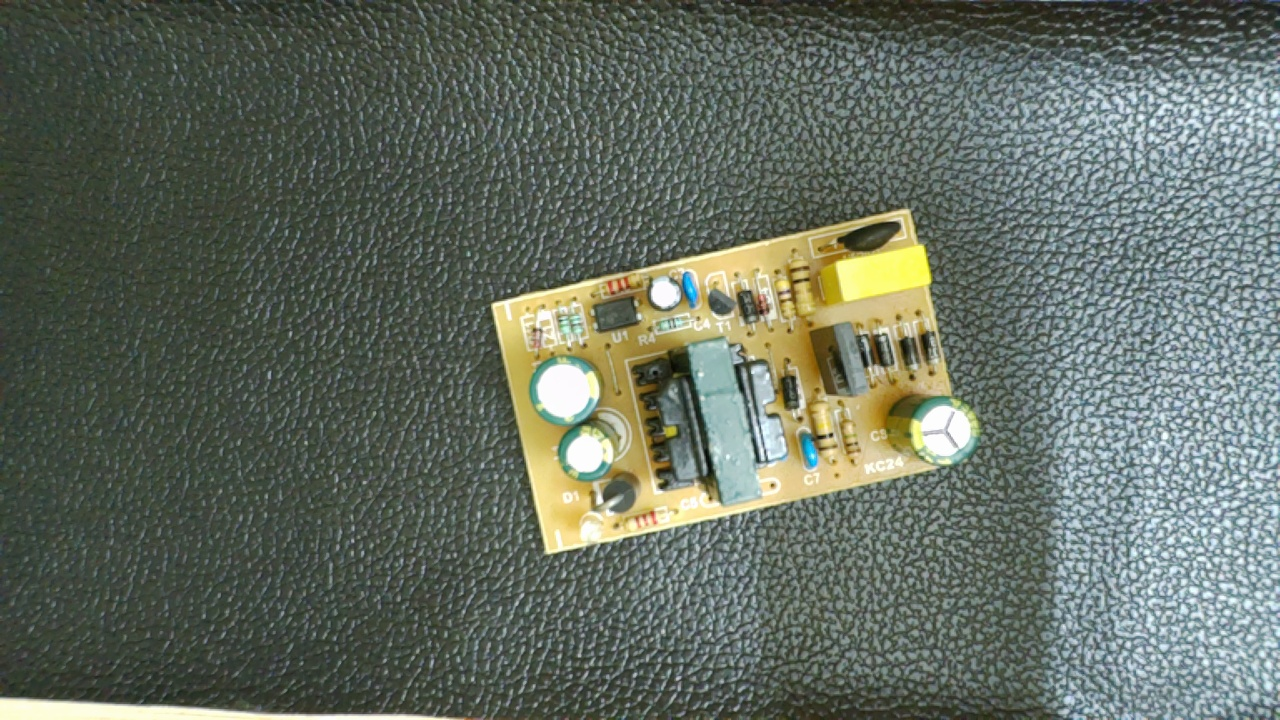fuse: (819, 215, 909, 254)
hv_capacitor: (881, 389, 983, 464)
optocoupler: (582, 293, 650, 338)
